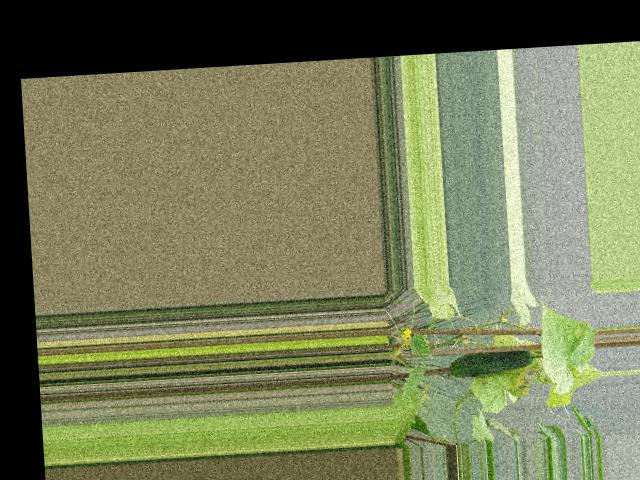cucumber: (446, 349, 534, 378)
